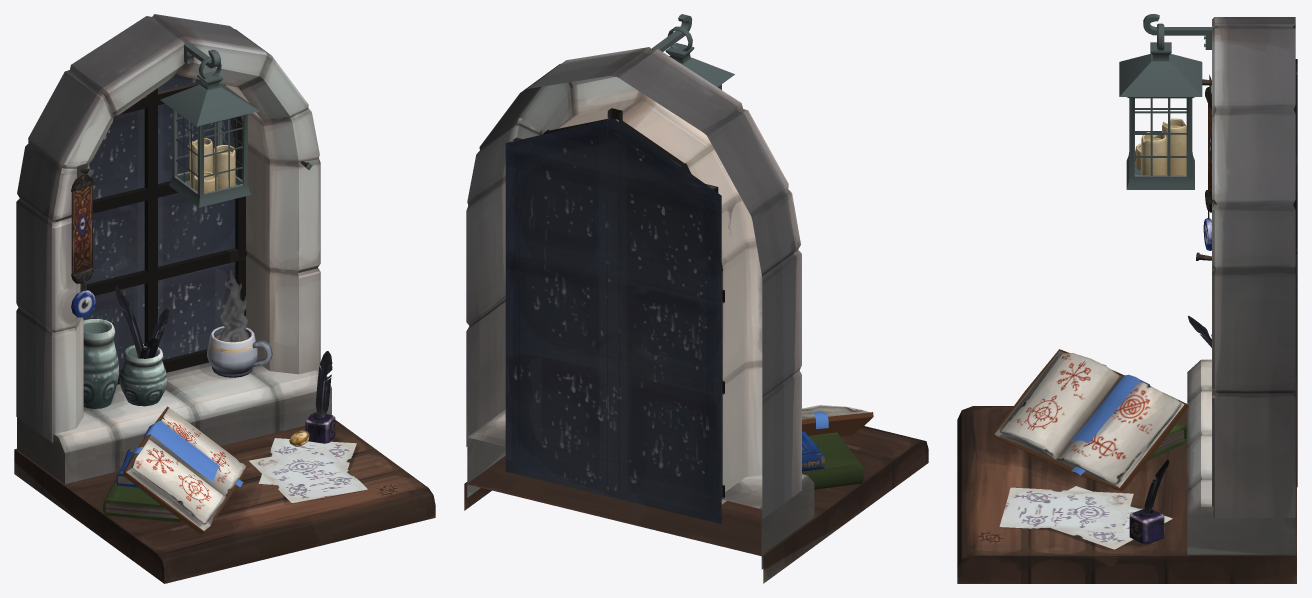
File: maya2sketchfab.fbx
The picture shows the model from 3 angles, left to right: view 1: azimuth 30°, elevation 25°; view 2: azimuth 150°, elevation 25°; view 3: azimuth 270°, elevation 25°; orthographic projection. The views are drawn at different scales.
Visible parts, largest first — view 1: polySurface152; view 2: polySurface152; view 3: polySurface152.
Boxes of the visible parts, x1=… form: polySurface152: x1=14, y1=14, x2=435, y2=583; polySurface152: x1=464, y1=14, x2=928, y2=583; polySurface152: x1=957, y1=14, x2=1297, y2=583.
Size of the model in its own units: 252 by 385 by 241.
2 materials, 2 textured.
